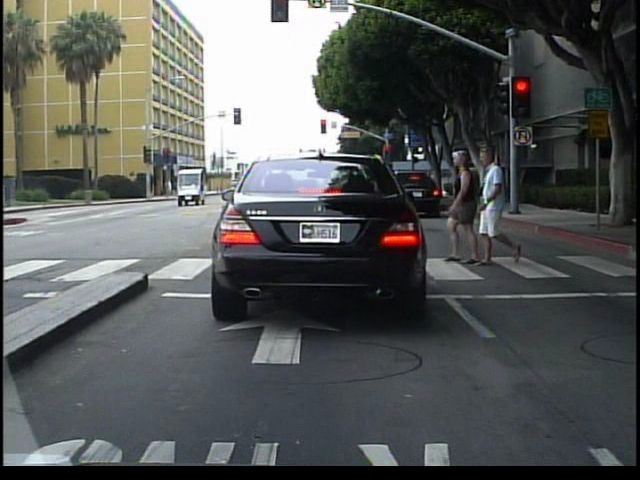person: (438, 146, 485, 266), (478, 138, 521, 261)
